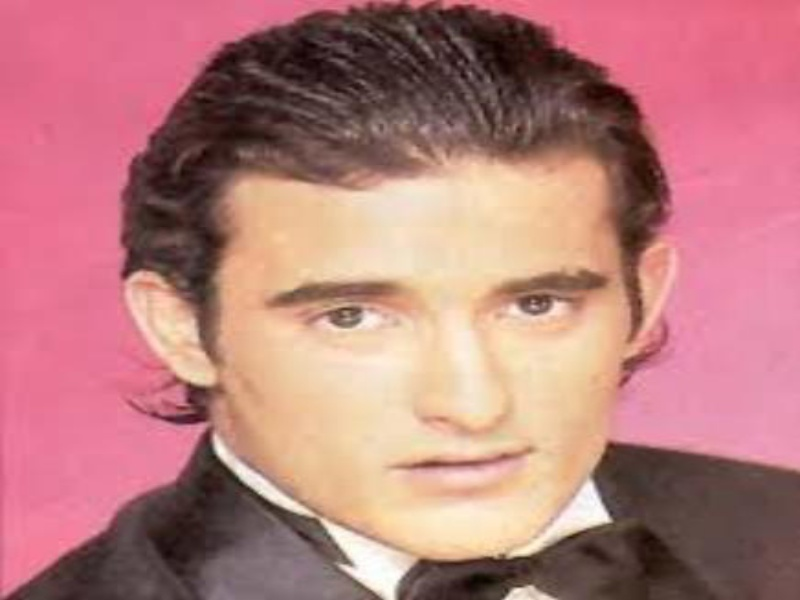TsisyArotava: (120, 57, 693, 576)
